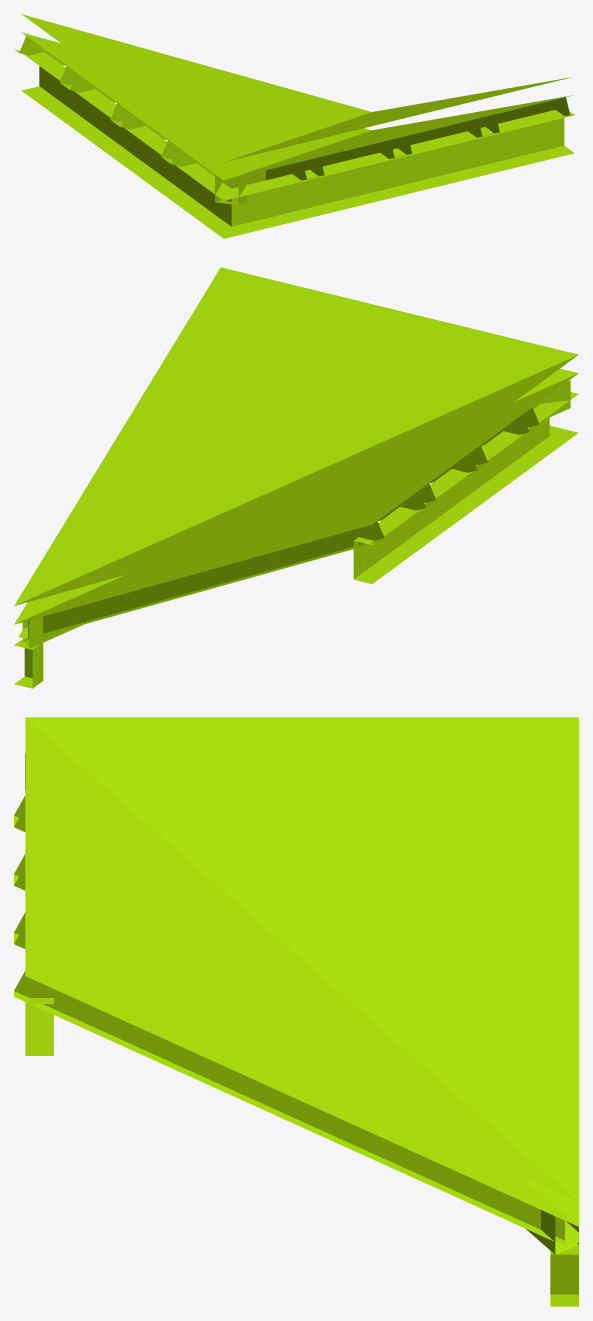
File: WallKit_Valley_COL.fbx
The picture shows the model from 3 angles, top to bottom: view 1: azimuth 30°, elevation 25°; view 2: azimuth 150°, elevation 25°; view 3: azimuth 270°, elevation 25°; orthographic projection. The views are drawn at different scales.
Visible parts, largest first — view 1: WallKit_Valley_COL; view 2: WallKit_Valley_COL; view 3: WallKit_Valley_COL.
Part boxes in pixels (x1=…): WallKit_Valley_COL: x1=14, y1=14, x2=575, y2=238; WallKit_Valley_COL: x1=14, y1=267, x2=578, y2=688; WallKit_Valley_COL: x1=14, y1=717, x2=578, y2=1306.
Bounding box in the file's own units: 409 × 283 × 408.
